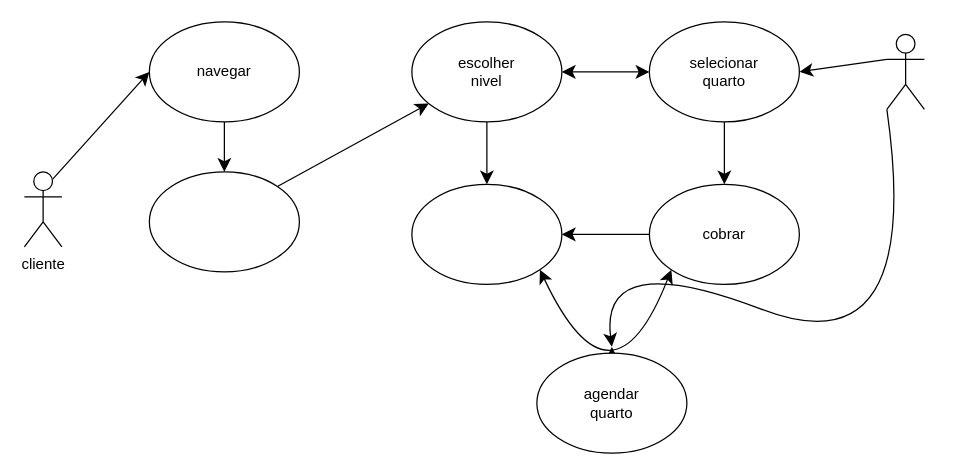
The diagram is 953 pixels wide and 475 high, and some of its shapes have lost their labels. Here are the shapes that lost their labels. From the top down, the centre of each, then its label:
pixel 905 71: sistema
pixel 223 221: escolher hotel
pixel 486 233: pagar
